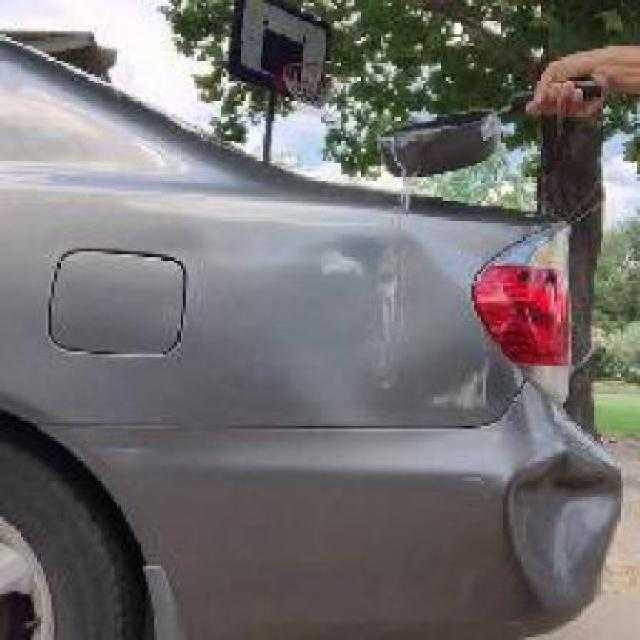dent-or-scratch: (294, 216, 473, 404), (508, 437, 614, 608)
